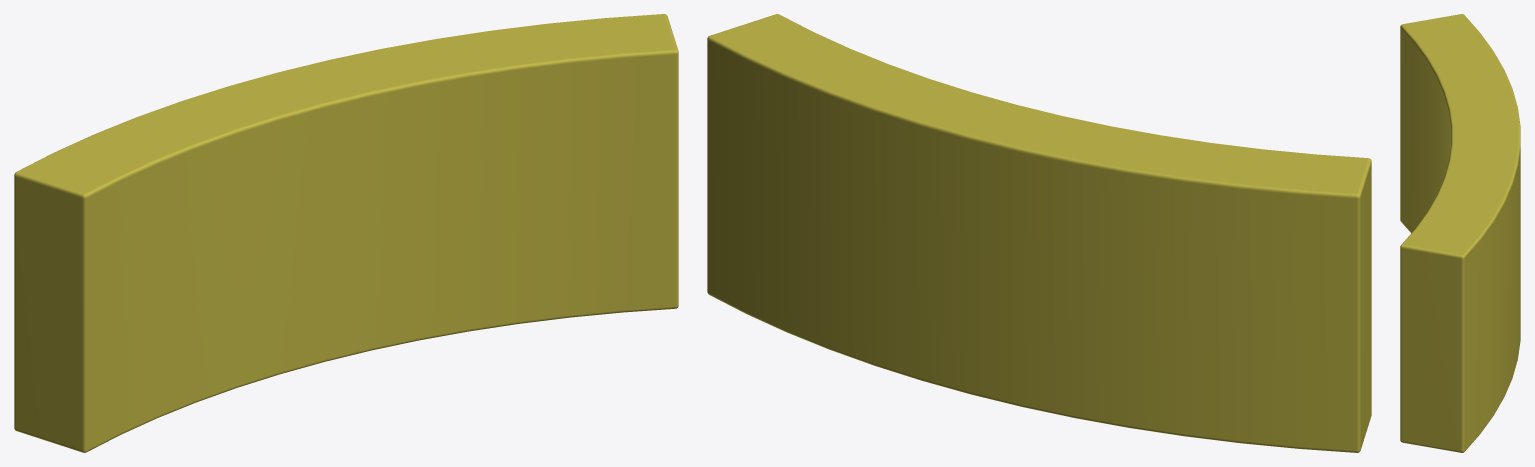
Rendered from SM_wall_bent.fbx.
3 renders of one model, left to right at view 1: azimuth 30°, elevation 25°; view 2: azimuth 150°, elevation 25°; view 3: azimuth 270°, elevation 25°, orthographic. The views are drawn at different scales.
Parts seen in each view (by area): view 1: Object32712; view 2: Object32712; view 3: Object32712.
Part boxes in pixels (bbox=[...]): Object32712: bbox=[14, 14, 678, 452]; Object32712: bbox=[707, 14, 1371, 452]; Object32712: bbox=[1400, 14, 1520, 452].
Bounding box in the file's own units: 122 × 46.28 × 25.58.
